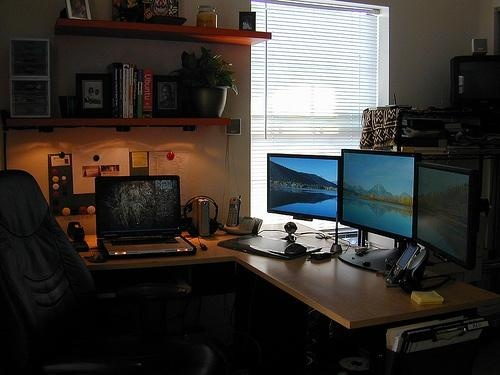chair: (2, 169, 213, 375)
pottedplant: (169, 46, 240, 117)
tvmonitor: (340, 146, 416, 254), (415, 160, 480, 269), (265, 152, 341, 223)
